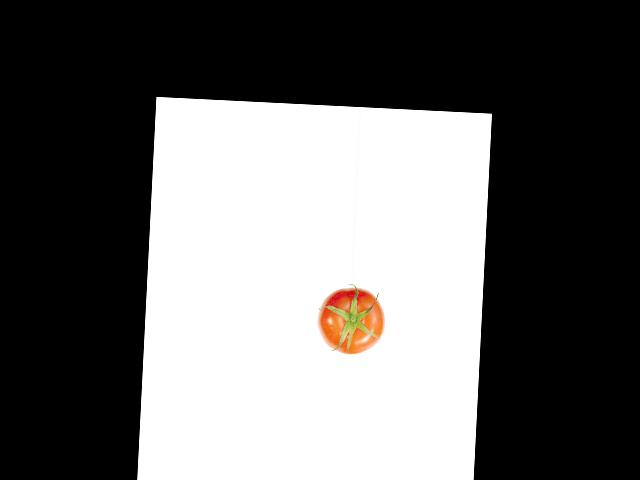tomato: (316, 286, 386, 356)
